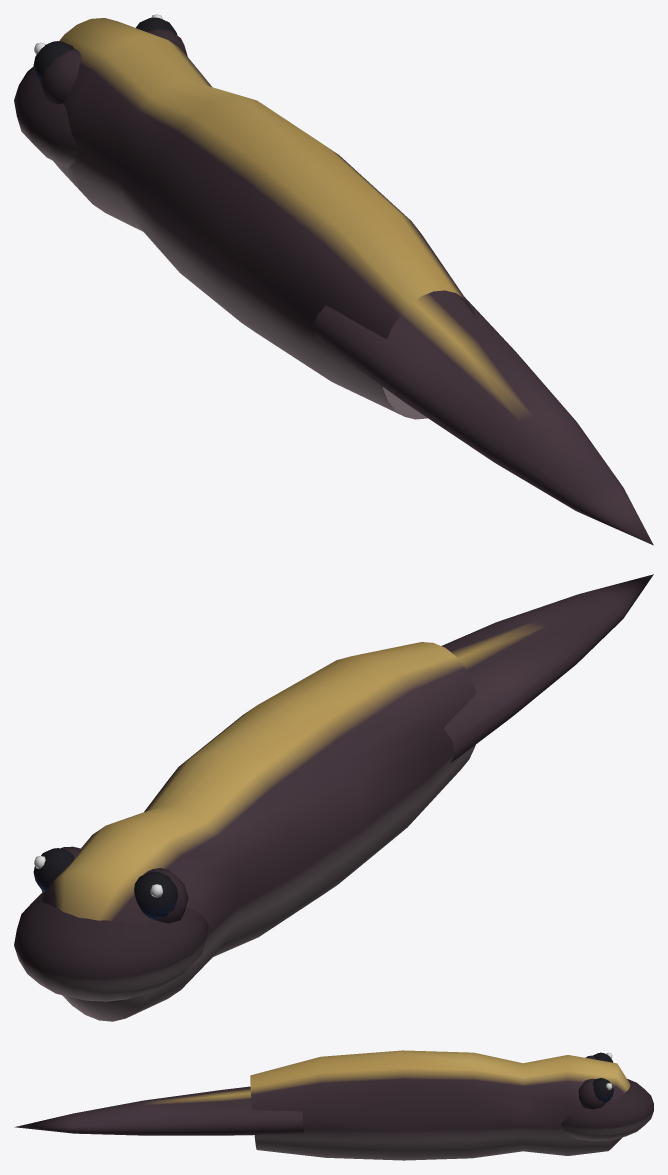
File: Sanshouuo.fbx
The picture shows the model from 3 angles, top to bottom: view 1: azimuth 30°, elevation 25°; view 2: azimuth 150°, elevation 25°; view 3: azimuth 270°, elevation 25°; orthographic projection. The views are drawn at different scales.
Visible parts, largest first — view 1: Sanshouuo; view 2: Sanshouuo; view 3: Sanshouuo.
Boxes of the visible parts, x1,y1,x2,y2 form: Sanshouuo: [14, 14, 653, 545]; Sanshouuo: [14, 574, 653, 1021]; Sanshouuo: [14, 1050, 653, 1160].
Bounding box in the file's own units: 1 × 1.15 × 6.41.
